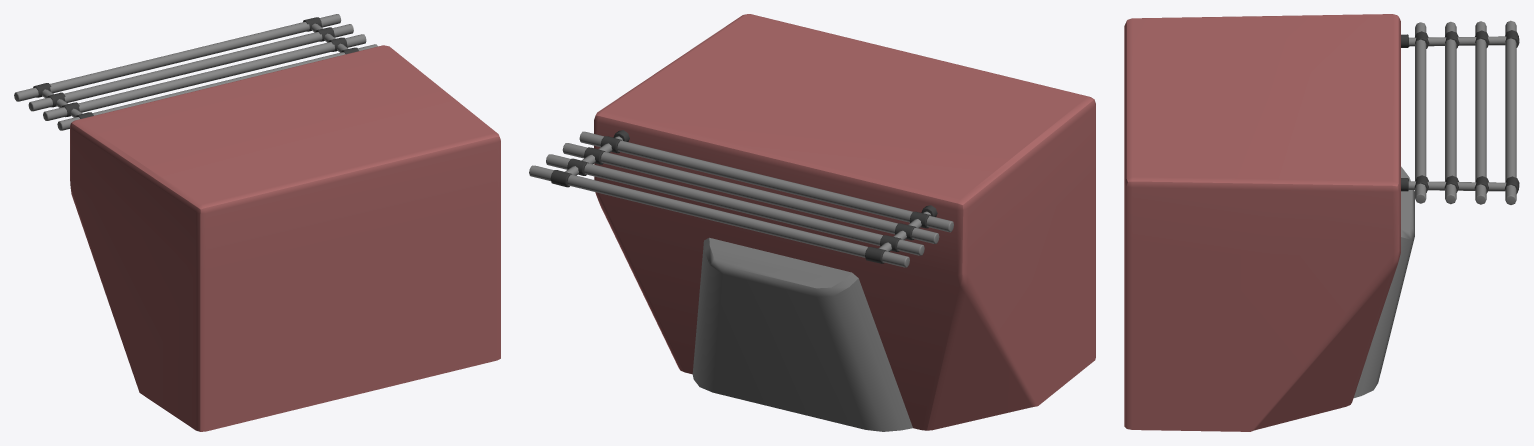
Rendered from SM_Comptoir_Clear.fbx.
3 renders of one model, left to right at view 1: azimuth 30°, elevation 25°; view 2: azimuth 150°, elevation 25°; view 3: azimuth 270°, elevation 25°, orthographic. The views are drawn at different scales.
Visible parts, largest first — view 1: SM_Comptoir_03; view 2: SM_Comptoir_03; view 3: SM_Comptoir_03.
Part boxes in pixels (x1,y1,x2,y2): SM_Comptoir_03: (14,14,500,431); SM_Comptoir_03: (529,14,1095,431); SM_Comptoir_03: (1124,14,1519,431).
Bounding box in the file's own units: 123 × 81.47 × 117.
